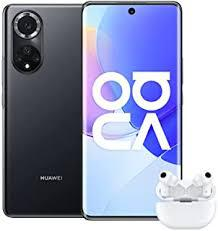Smartphone: (81, 1, 183, 219), (3, 5, 80, 215)
